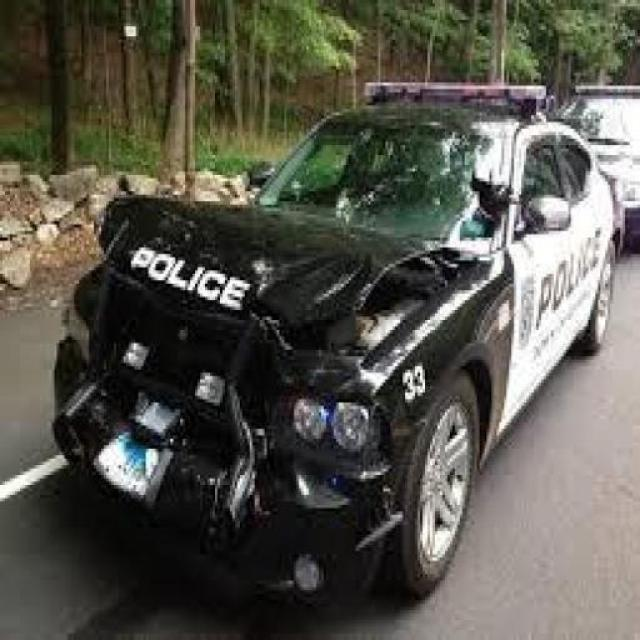crush: (51, 177, 518, 593)
